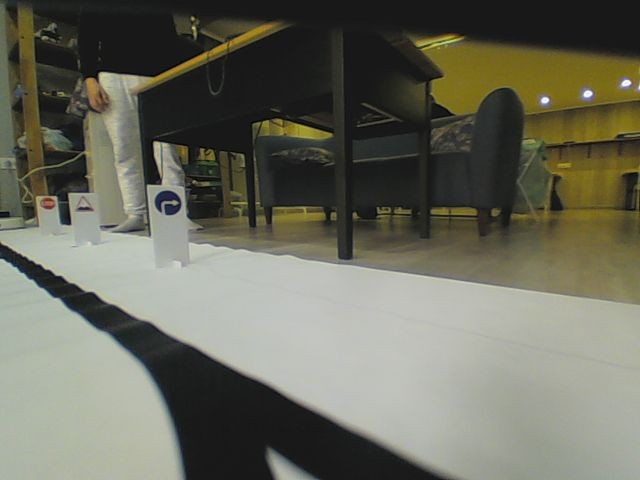Nerov: (75, 194, 93, 214)
Right: (154, 189, 181, 217)
Stop: (39, 198, 56, 210)
